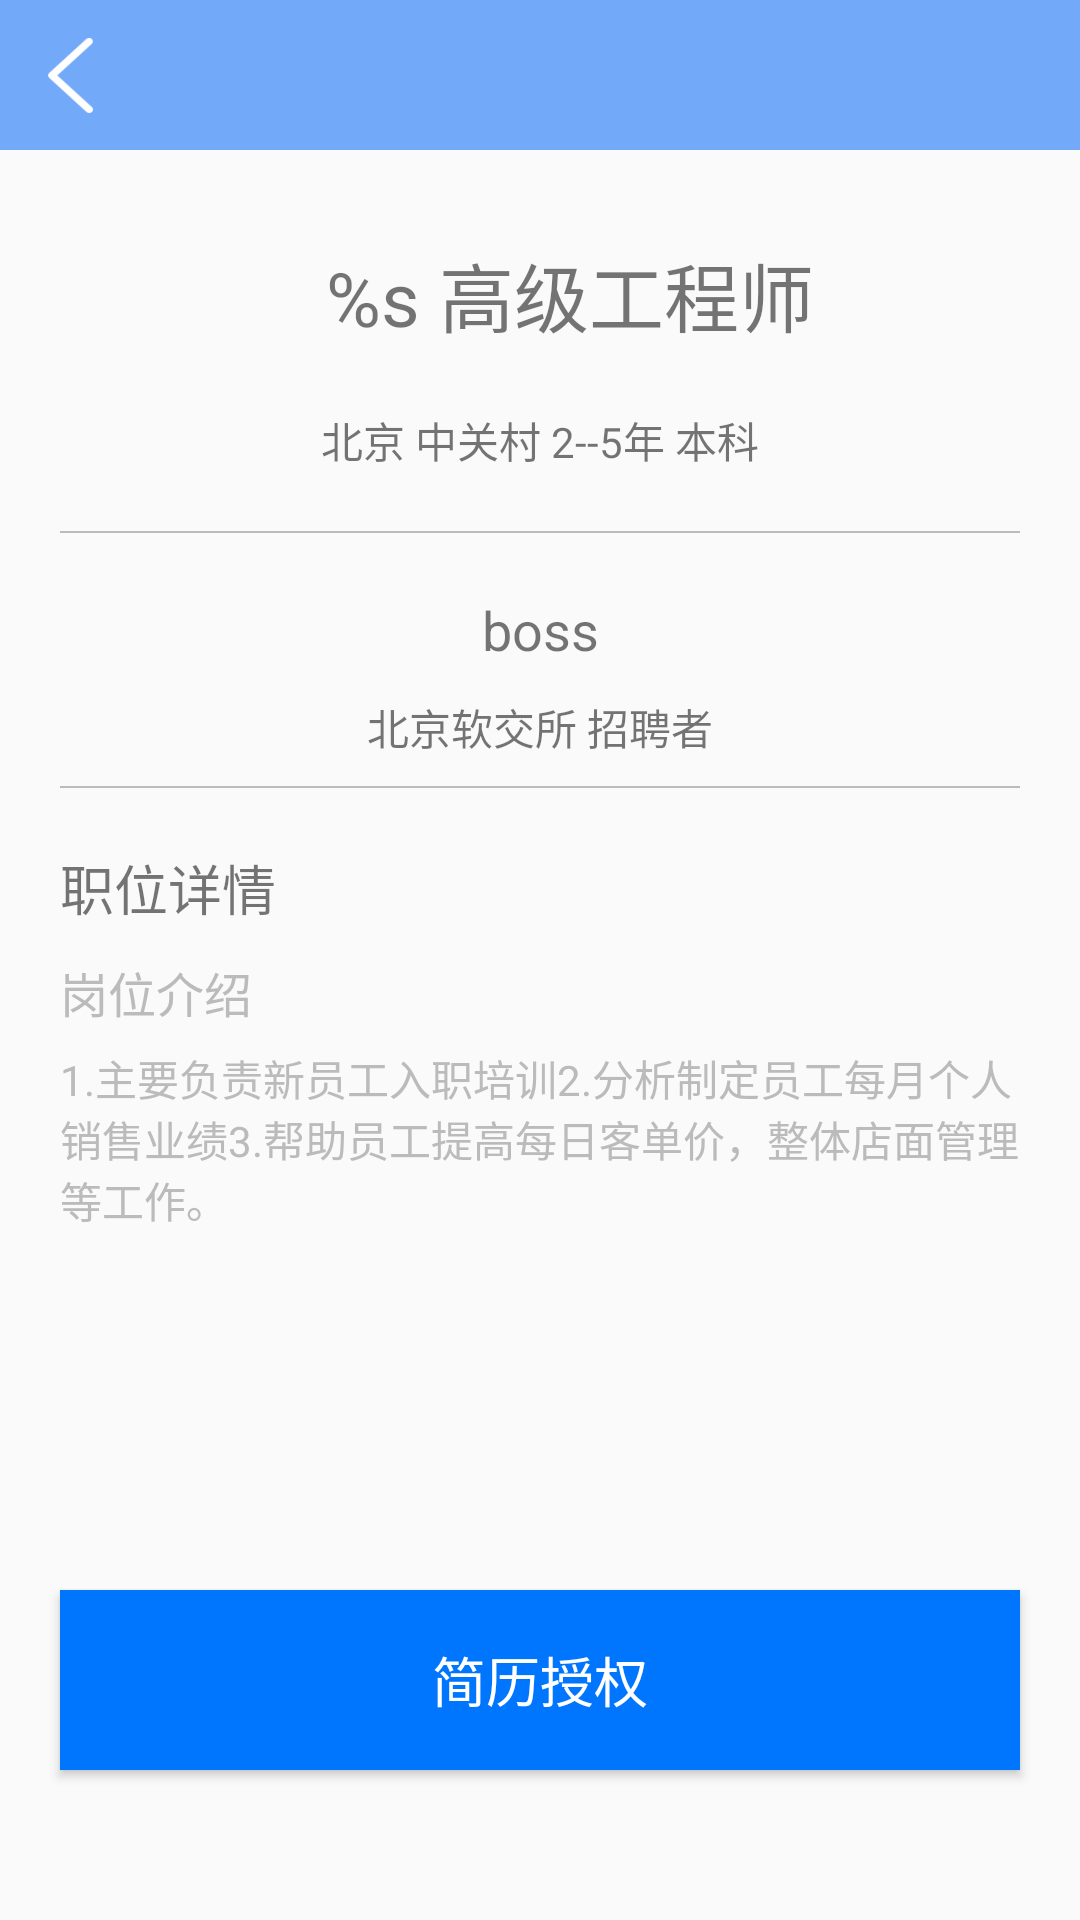

Icons on this 1080×1920 Android screen, each with the point to tap as [x,y]:
back: [70,75]
